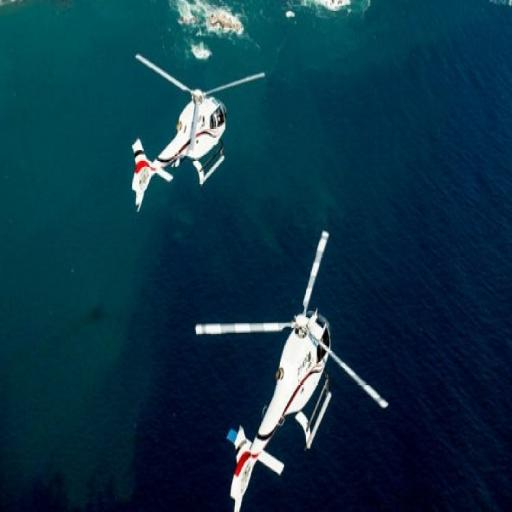helicopter: (198, 234, 394, 509), (134, 55, 240, 219)
